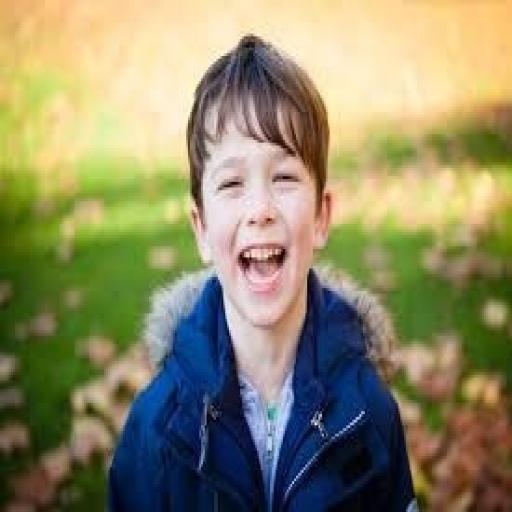laughing: (100, 28, 422, 509)
